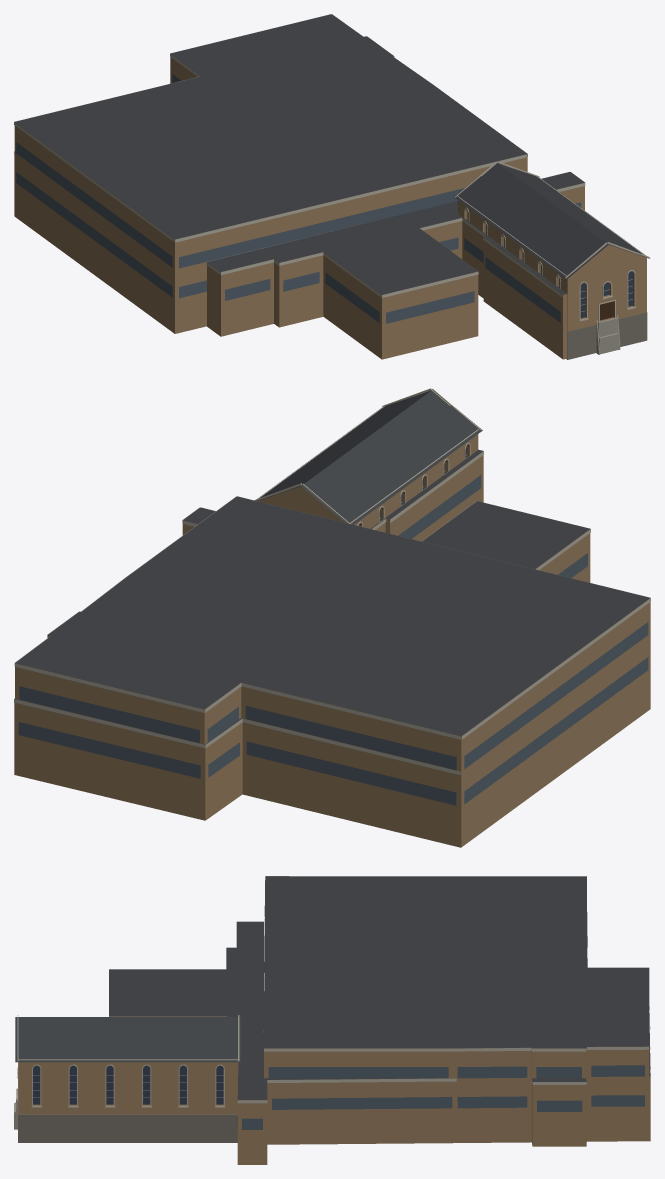
File: asbury-umc.glb
3 renders of one model, top to bottom at view 1: azimuth 30°, elevation 25°; view 2: azimuth 150°, elevation 25°; view 3: azimuth 270°, elevation 25°, orthographic. The views are drawn at different scales.
Visible parts, largest first — view 1: asbury_umc; view 2: asbury_umc; view 3: asbury_umc.
Boxes of the visible parts, x1=… form: asbury_umc: x1=14, y1=14, x2=650, y2=359; asbury_umc: x1=14, y1=388, x2=650, y2=847; asbury_umc: x1=14, y1=876, x2=650, y2=1164.
Bounding box in the file's own units: 62.61 × 16.39 × 86.83.
